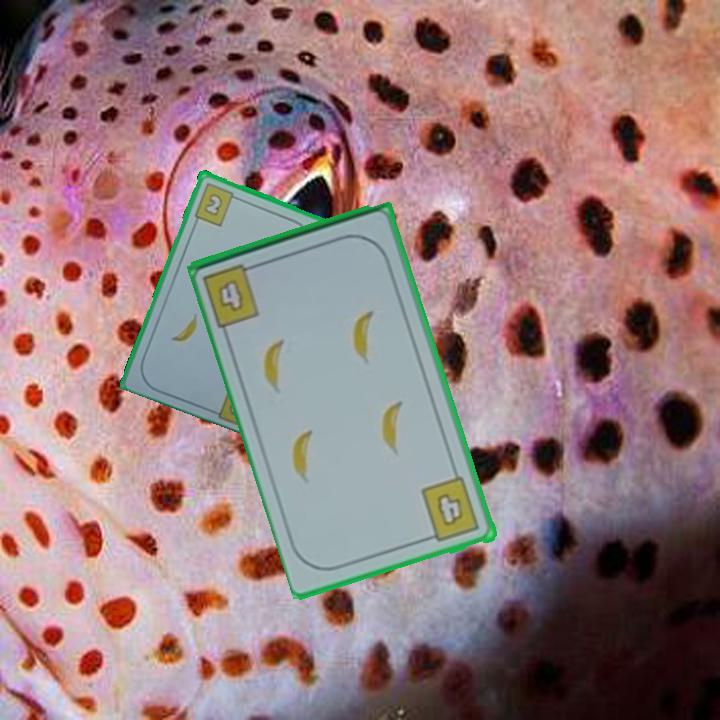2b: (191, 179, 241, 228)
4b: (418, 474, 484, 545), (199, 259, 264, 331)
